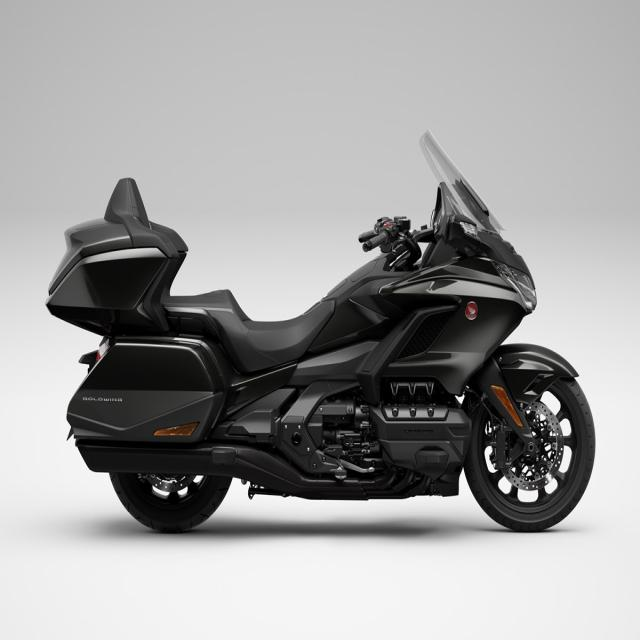Bike: (45, 134, 598, 537)
